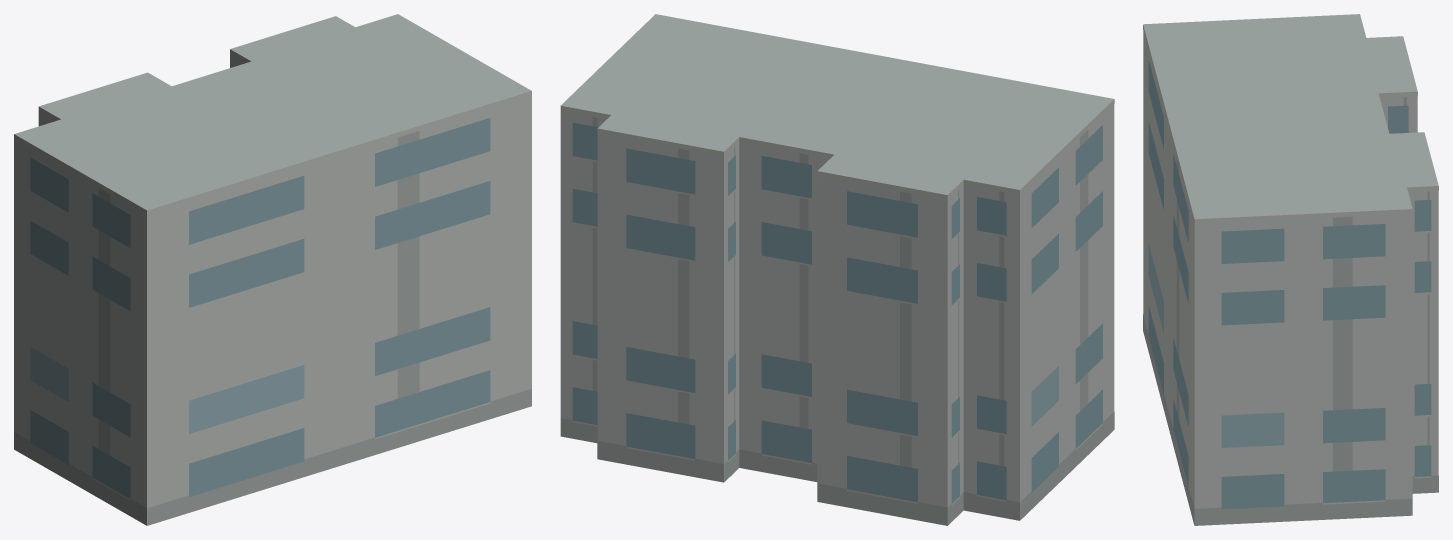
File: residential-d2bce3e3-8109-46cc-b7ee-c83c66e1fbcd.glb
The picture shows the model from 3 angles, left to right: view 1: azimuth 30°, elevation 25°; view 2: azimuth 150°, elevation 25°; view 3: azimuth 270°, elevation 25°; orthographic projection. The views are drawn at different scales.
Parts seen in each view (by area): view 1: residential-d2bce3e3-8109-46cc-b7ee-c83c66e1fbcd.tmp; view 2: residential-d2bce3e3-8109-46cc-b7ee-c83c66e1fbcd.tmp; view 3: residential-d2bce3e3-8109-46cc-b7ee-c83c66e1fbcd.tmp.
Boxes of the visible parts, left/top/right/bottom form: residential-d2bce3e3-8109-46cc-b7ee-c83c66e1fbcd.tmp: left=14, top=14, right=531, bottom=525; residential-d2bce3e3-8109-46cc-b7ee-c83c66e1fbcd.tmp: left=560, top=14, right=1114, bottom=525; residential-d2bce3e3-8109-46cc-b7ee-c83c66e1fbcd.tmp: left=1143, top=14, right=1438, bottom=525.
Size of the model in its own units: 21.9 by 15.25 by 13.34.
